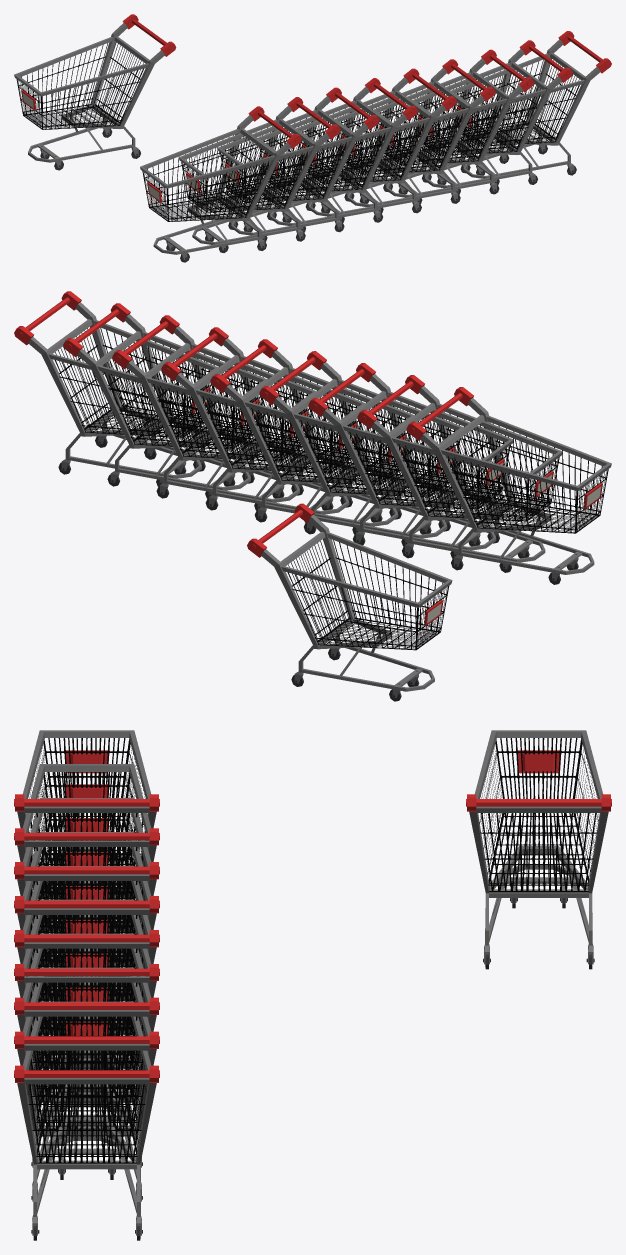
The model's file is cq_voziky.glb.
The picture shows the model from 3 angles, top to bottom: view 1: azimuth 30°, elevation 25°; view 2: azimuth 150°, elevation 25°; view 3: azimuth 270°, elevation 25°; orthographic projection. The views are drawn at different scales.
Visible parts, largest first — view 1: Plane.002_1, Plane.001_0; view 2: Plane.002_1, Plane.001_0; view 3: Plane.002_1, Plane.001_0.
Part boxes in pixels (<box>): Plane.002_1: <box>140,31,611,262</box>; Plane.001_0: <box>14,14,176,170</box>; Plane.002_1: <box>14,291,611,584</box>; Plane.001_0: <box>247,503,452,701</box>; Plane.002_1: <box>14,730,159,1240</box>; Plane.001_0: <box>466,730,611,969</box>.
Bounding box in the file's own units: 4.31 × 1.05 × 2.83.
Materials: 5 (1 with a texture image).
